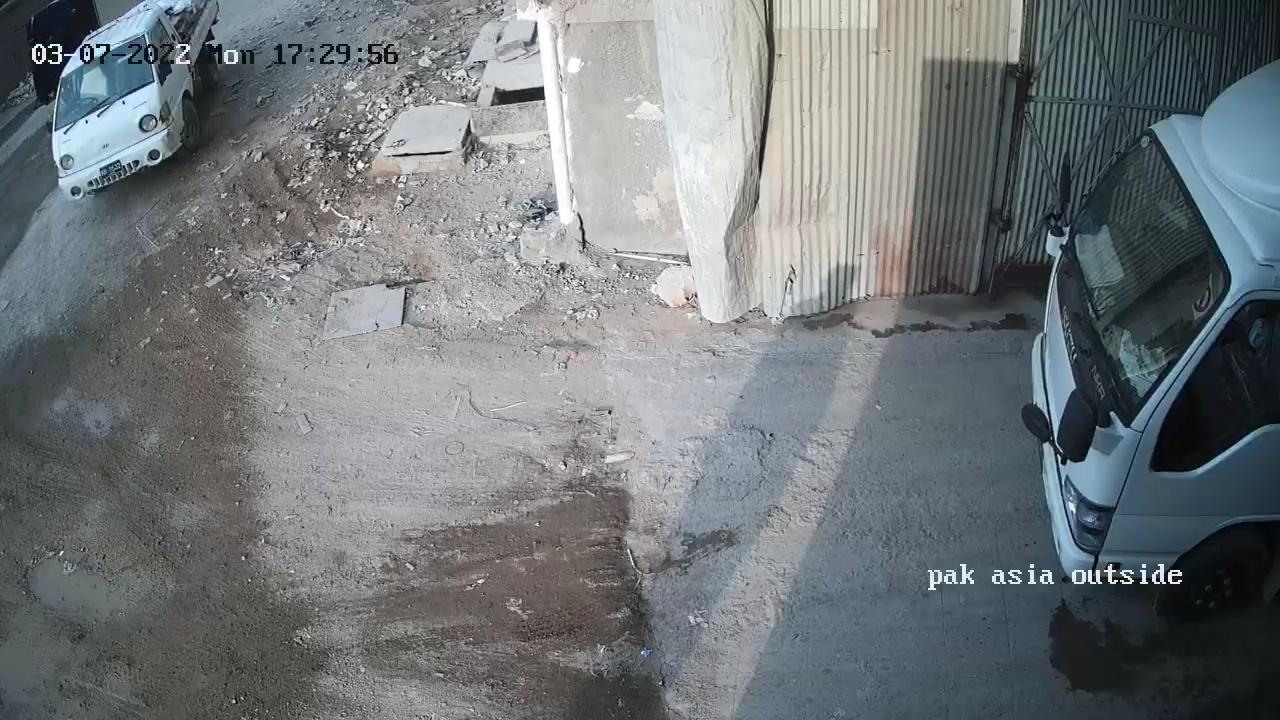Ltv: (48, 0, 220, 199)
other: (1024, 53, 1280, 632)
